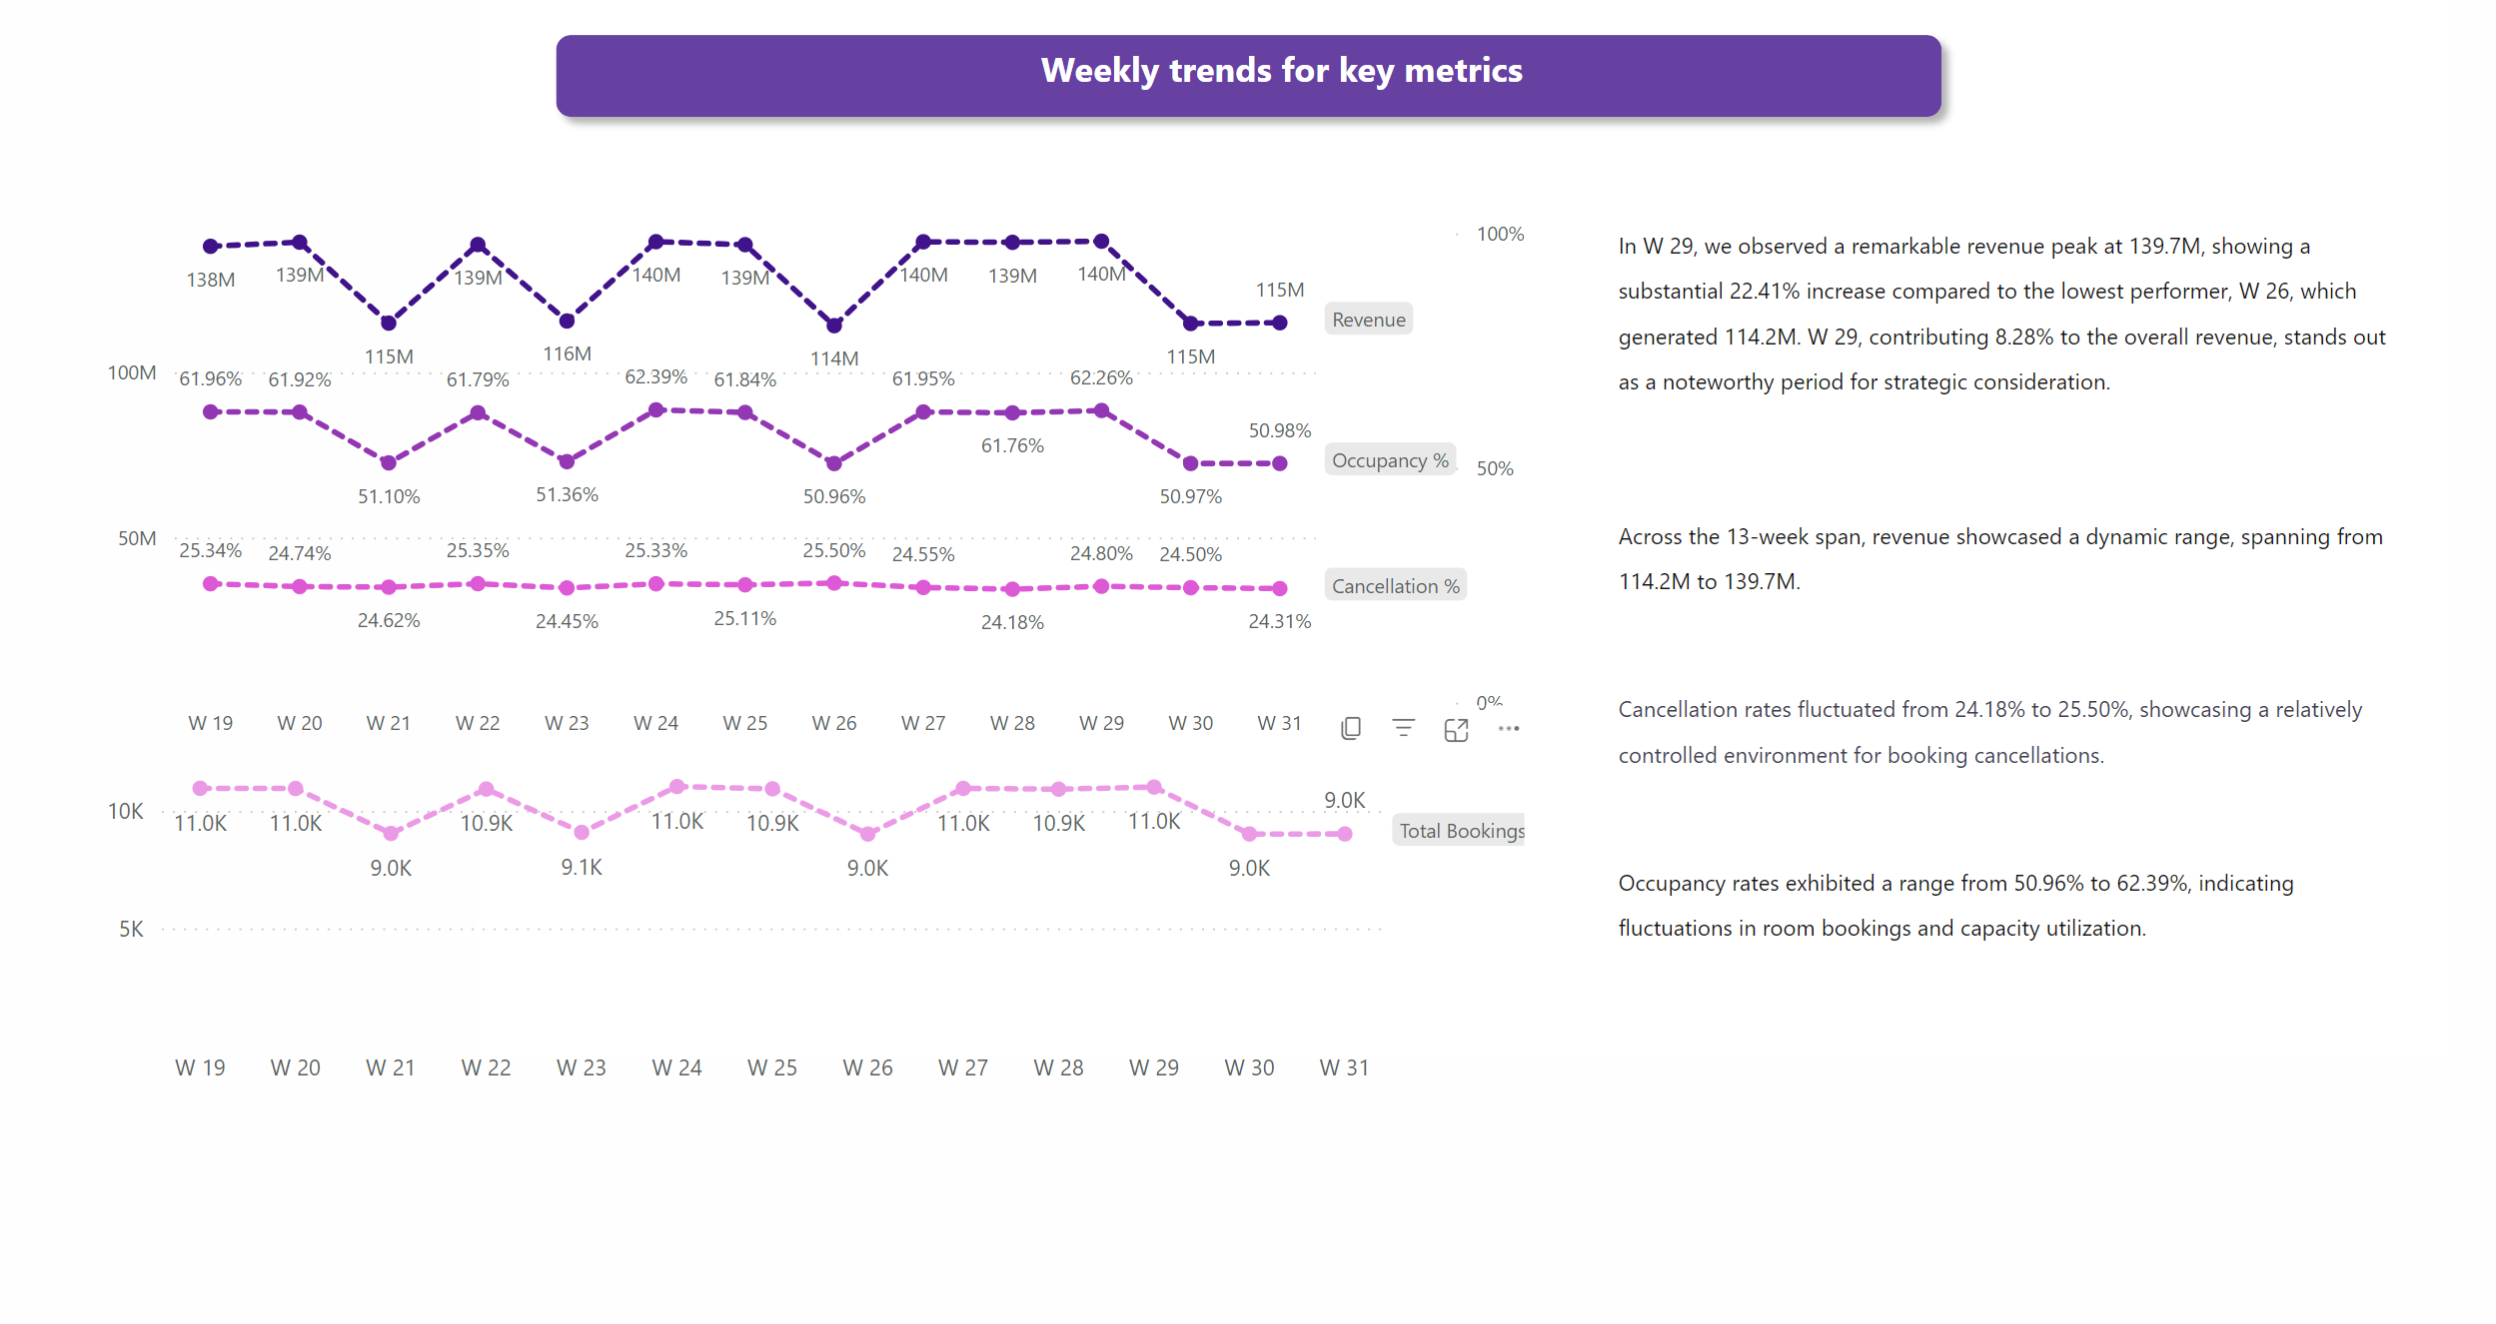

This screenshot's page, from the dashboard's own definition file:
{"tool":"powerbi","page":{"name":"Weekly Trends","canvas":[1280,720],"ordinal":1},"visuals":[{"type":"lineChart","title":"Weekly trends for key metrics","fields":{"Y":["Key_Measures.Revenue"],"Category":["dim_date.week no"],"Y2":["Key_Measures.Occupancy %","Key_Measures.Cancellation %"]},"box":[15.4,112.7,778.7,296.6],"z":0},{"type":"lineChart","fields":{"Category":["dim_date.week no"],"Y":["Key_Measures.Total Bookings"]},"box":[15.4,409.3,778.7,188.9],"z":1000},{"type":"textbox","box":[836,112.8,436.8,121.4],"z":2000},{"type":"textbox","box":[836,270.1,436.8,64.1],"z":3000},{"type":"textbox","box":[836,364.1,436.8,66.7],"z":4000},{"type":"textbox","box":[836,458.2,436.8,68.4],"z":5000},{"type":"shape","box":[255.6,10.3,769.3,62.4],"z":5001},{"type":"textbox","box":[405.2,20.5,505.2,41.9],"z":5002}]}

Visuals, with their boxes on the page's 1280x720 design canvas (x1, y1, x2, y2). These are canvas units, not pixel positions in the 2496x1324 screenshot, which may show the page scaled, cropped or inside an application window:
"Weekly trends for key metrics" lineChart: [15, 113, 794, 409]
lineChart - dim_date.week no x Key_Measures.Total Bookings: [15, 409, 794, 598]
textbox: [836, 113, 1273, 234]
textbox: [836, 270, 1273, 334]
textbox: [836, 364, 1273, 431]
textbox: [836, 458, 1273, 527]
shape: [256, 10, 1025, 73]
textbox: [405, 20, 910, 62]
